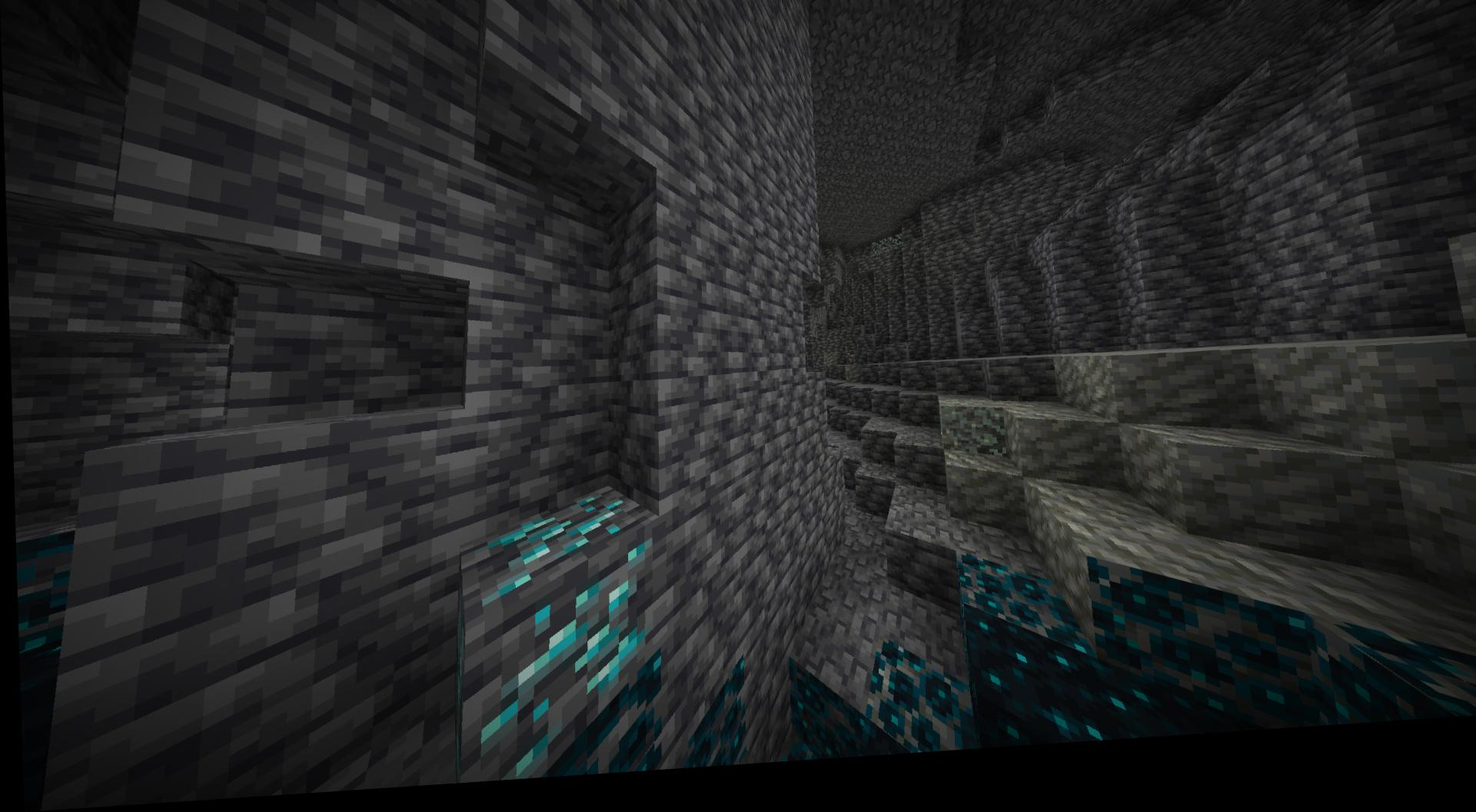diamond ore: (468, 546, 655, 780), (466, 497, 638, 606)
iron ore: (842, 361, 857, 379)
